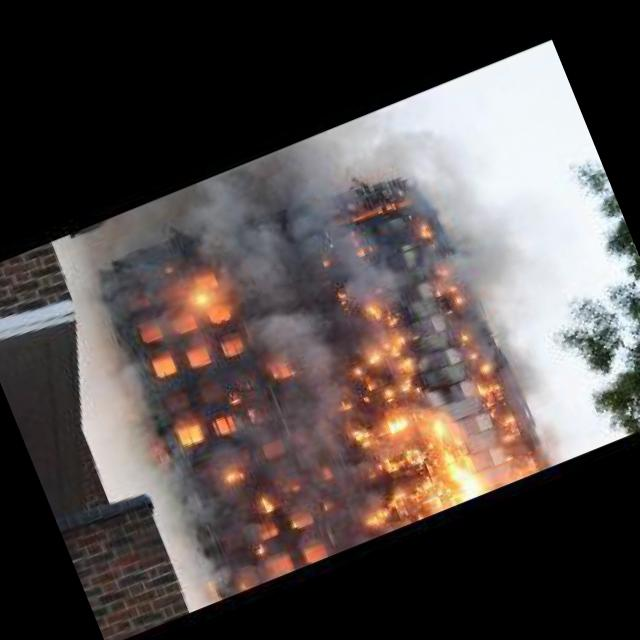fire: (339, 334, 481, 522), (454, 321, 506, 401), (356, 288, 416, 357), (485, 402, 538, 478), (426, 257, 467, 316), (182, 278, 214, 316), (406, 209, 437, 247), (218, 384, 248, 416), (219, 461, 248, 490), (246, 534, 274, 562), (254, 490, 276, 513)
smoke: (175, 160, 383, 524), (64, 259, 243, 601), (410, 134, 590, 444), (273, 128, 393, 316)
